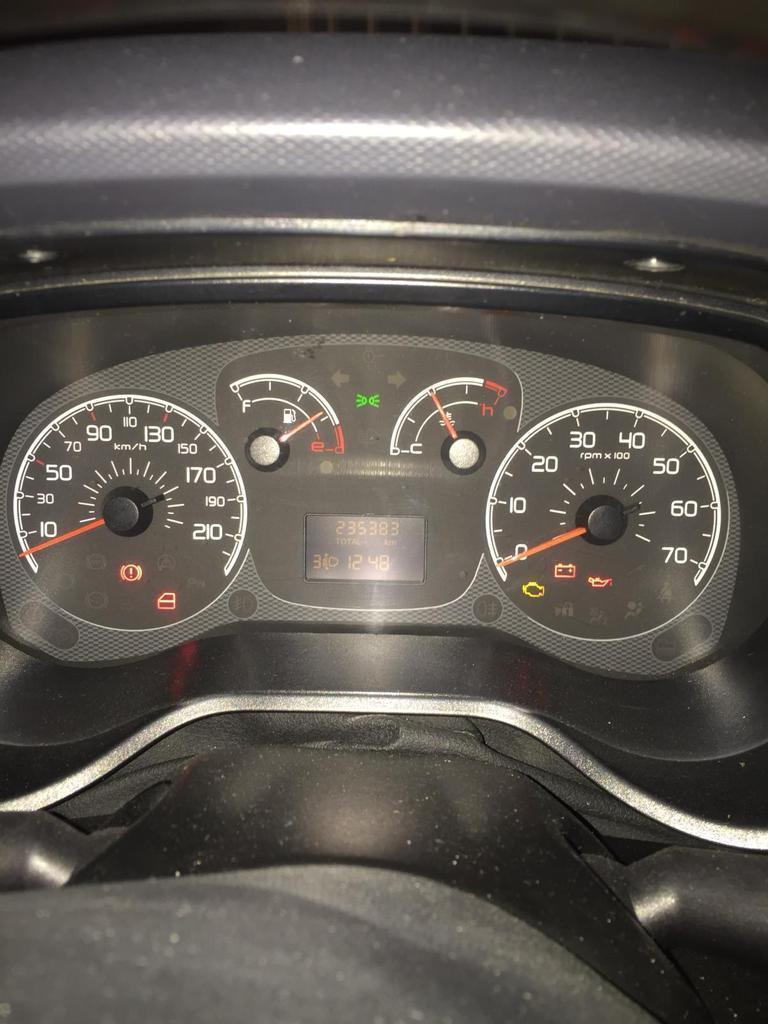1: (345, 553, 351, 570)
2: (351, 553, 362, 571), (334, 520, 345, 534)
3: (311, 553, 321, 569), (367, 520, 377, 536), (389, 520, 399, 535), (346, 520, 355, 535)
4: (366, 553, 379, 571)
6: (356, 520, 366, 536)
8: (379, 554, 389, 571), (378, 520, 388, 536)
X: (340, 537, 346, 544), (335, 536, 340, 544), (346, 537, 351, 544), (351, 537, 356, 544), (384, 538, 389, 545), (389, 540, 396, 545), (356, 538, 360, 545)
odometer: (302, 512, 428, 587)
